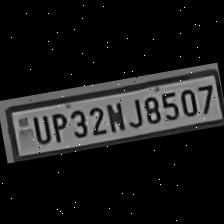0: (174, 83, 198, 117)
2: (83, 99, 108, 135)
3: (65, 102, 89, 138)
5: (156, 86, 181, 120)
7: (194, 80, 218, 114)
8: (138, 90, 162, 124)
J: (120, 93, 144, 128)
N: (102, 97, 126, 132)
P: (47, 106, 70, 141)
U: (28, 110, 52, 144)
